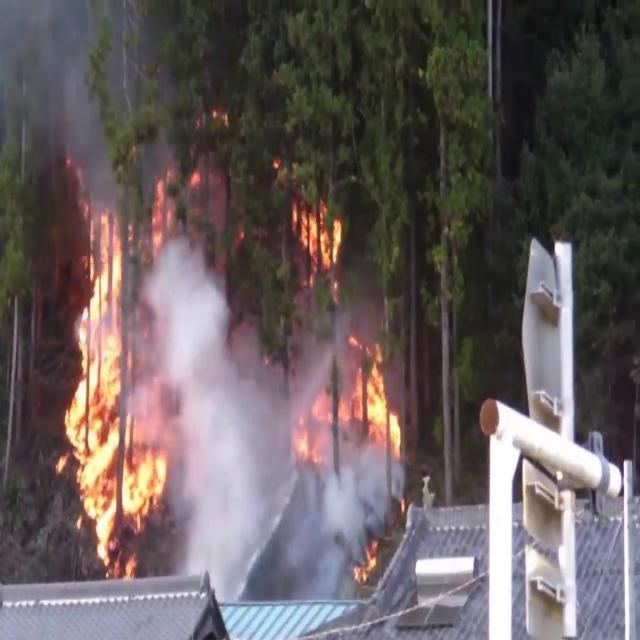Fire: (54, 207, 168, 566), (338, 326, 404, 458), (292, 191, 346, 284)
Smoke: (137, 234, 323, 606), (290, 448, 390, 590)
